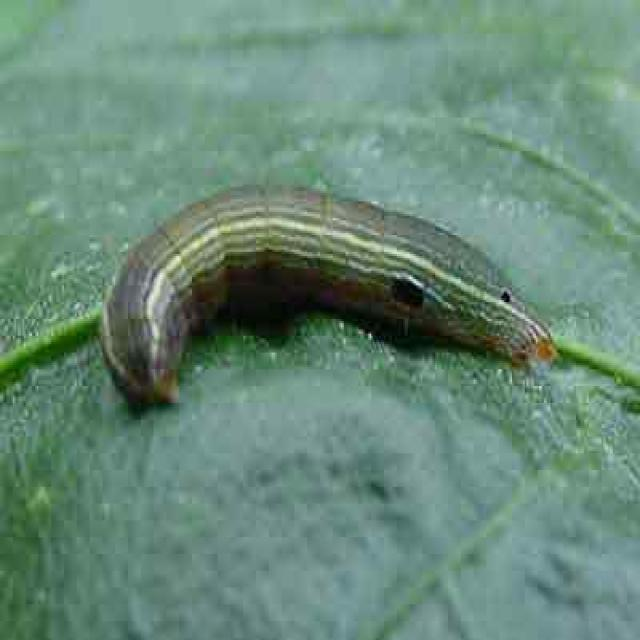BeetArmyWorm-Larva-: (94, 176, 544, 413)
